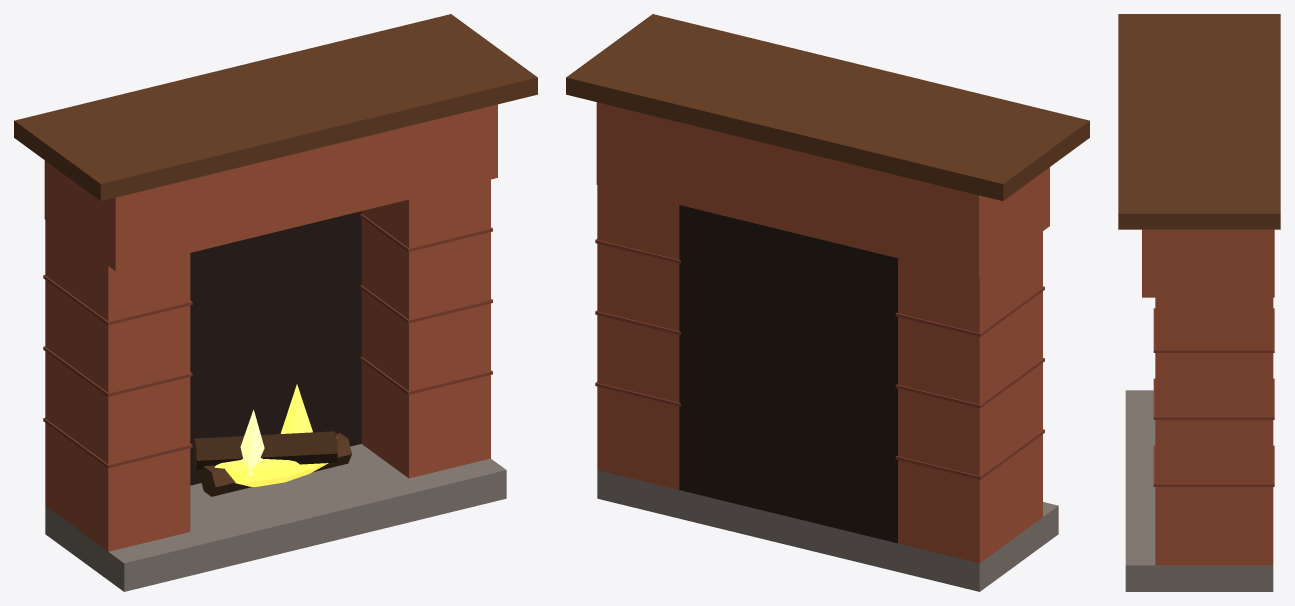
File: fireplace.fbx
3 renders of one model, left to right at view 1: azimuth 30°, elevation 25°; view 2: azimuth 150°, elevation 25°; view 3: azimuth 270°, elevation 25°, orthographic. The views are drawn at different scales.
Parts seen in each view (by area): view 1: fireplace, fire; view 2: fireplace; view 3: fireplace.
Part boxes in pixels (box(x1,y1,x2,y2)): fireplace: box(14, 14, 537, 591); fire: box(214, 384, 337, 486); fireplace: box(566, 14, 1089, 591); fireplace: box(1118, 14, 1280, 591).
Bounding box in the file's own units: 6.4 × 5.84 × 2.2.
